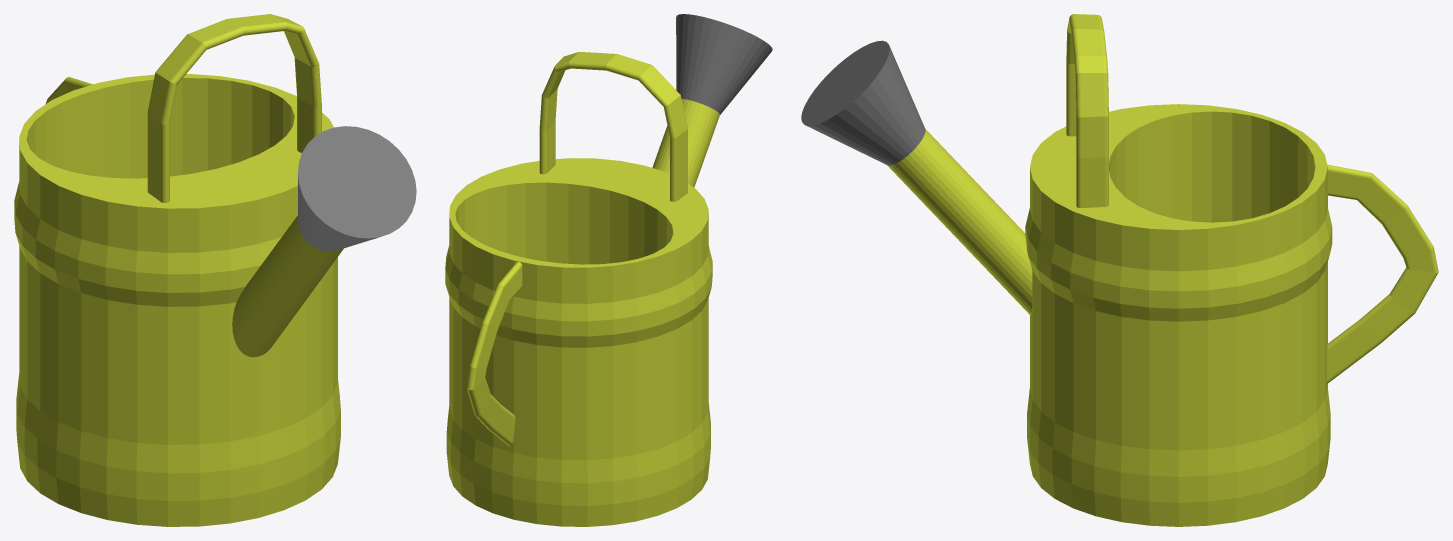
Rendered from watering can.fbx.
The picture shows the model from 3 angles, left to right: view 1: azimuth 30°, elevation 25°; view 2: azimuth 150°, elevation 25°; view 3: azimuth 270°, elevation 25°; orthographic projection. The views are drawn at different scales.
Parts seen in each view (by area): view 1: Cube, Cylinder, Cube.002; view 2: Cube, Cylinder, Cube.002, Cube.001; view 3: Cube, Cylinder, Cube.001, Cube.002.
Part boxes in pixels (<box>): Cube: <box>14,74,340,526</box>; Cylinder: <box>232,126,416,357</box>; Cube.002: <box>147,14,321,202</box>; Cube: <box>445,158,712,526</box>; Cylinder: <box>652,14,772,187</box>; Cube.002: <box>539,52,687,201</box>; Cube.001: <box>466,260,522,446</box>; Cube: <box>1025,104,1332,526</box>; Cylinder: <box>801,40,1032,315</box>; Cube.001: <box>1324,164,1438,383</box>; Cube.002: <box>1066,14,1108,207</box>.
Bounding box in the file's own units: 4922 × 7773 × 10224.
